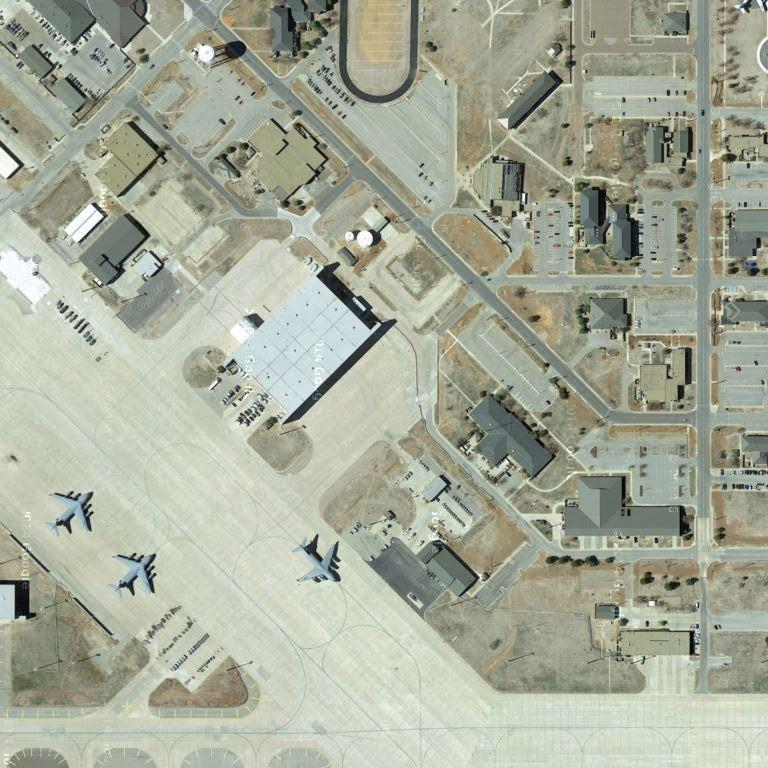C-17: (293, 536, 341, 590), (108, 550, 158, 601), (45, 488, 96, 538)
